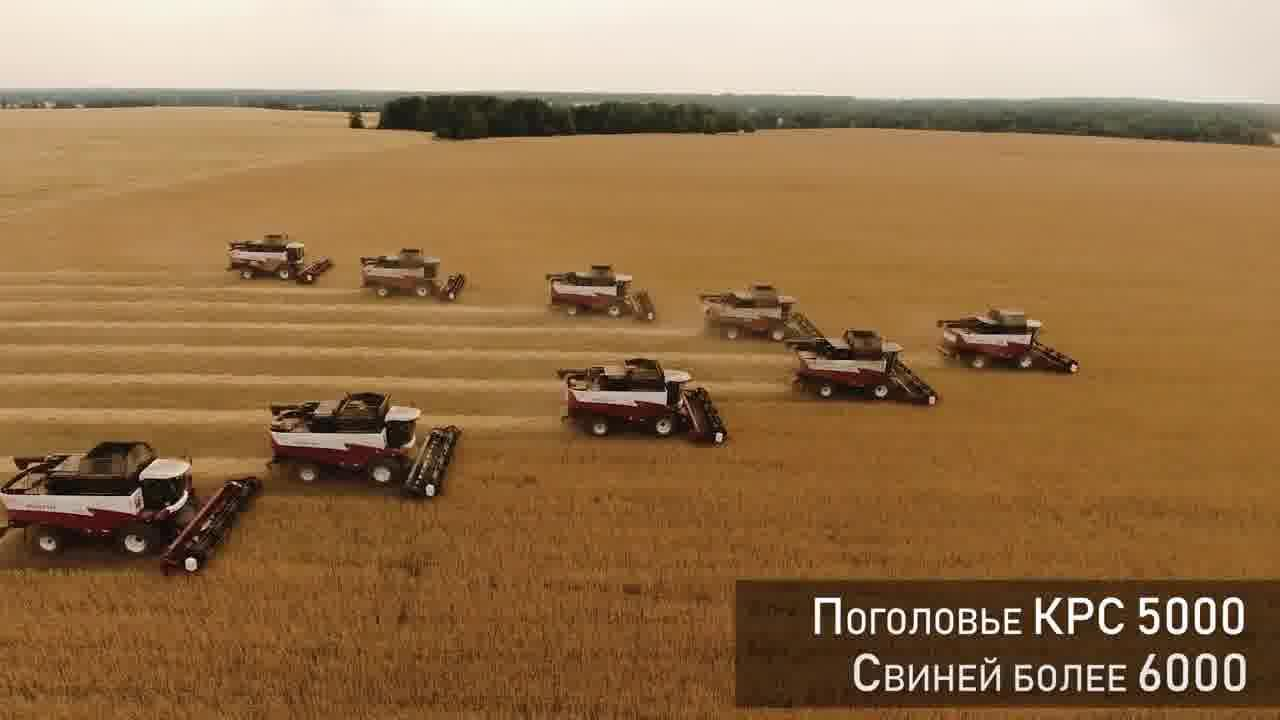combine harvester: (0, 436, 262, 587), (265, 389, 464, 506), (553, 355, 734, 452), (787, 326, 944, 411), (936, 301, 1084, 379), (694, 280, 819, 344), (541, 260, 661, 323), (225, 229, 332, 289), (359, 246, 467, 303)
